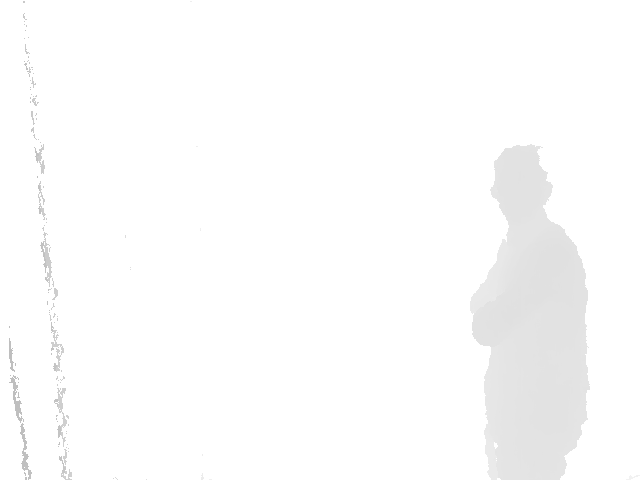head: (489, 143, 554, 220)
person: (469, 143, 593, 480)
